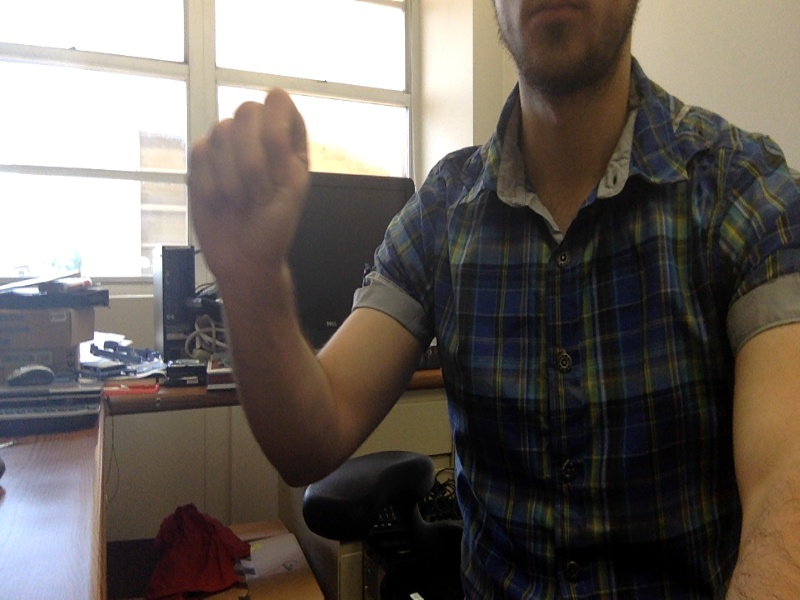0-hand: (186, 90, 313, 281)
